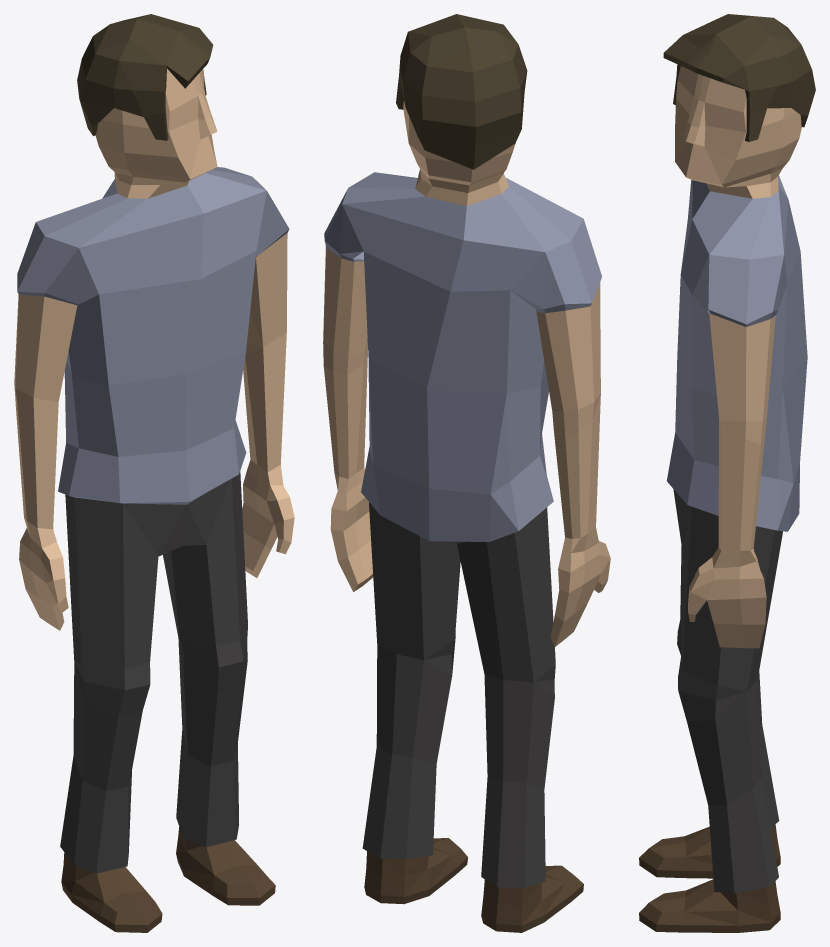
The model's file is Male_Crowd_LookingAround.glb.
3 views of the same model, side by side, from view 1: azimuth 30°, elevation 25°; view 2: azimuth 150°, elevation 25°; view 3: azimuth 270°, elevation 25° (orthographic). The views are drawn at different scales.
Visible parts, largest first — view 1: Male_Crowd_LookingAround; view 2: Male_Crowd_LookingAround; view 3: Male_Crowd_LookingAround.
Boxes of the visible parts, x1=… form: Male_Crowd_LookingAround: x1=14, y1=14, x2=294, y2=932; Male_Crowd_LookingAround: x1=323, y1=14, x2=610, y2=932; Male_Crowd_LookingAround: x1=639, y1=14, x2=815, y2=932.
Bounding box in the file's own units: 0.5758 × 1.8 × 0.3302.
